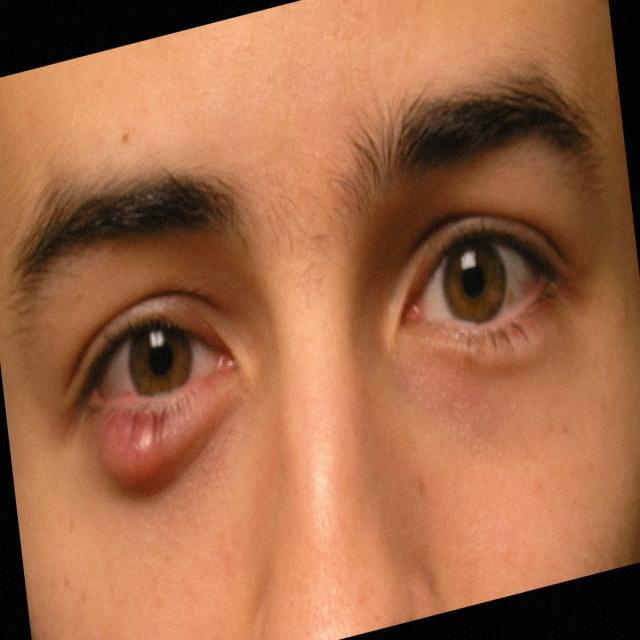Chalazion: (65, 280, 256, 500)
Healthy-Eye: (390, 184, 567, 369)
